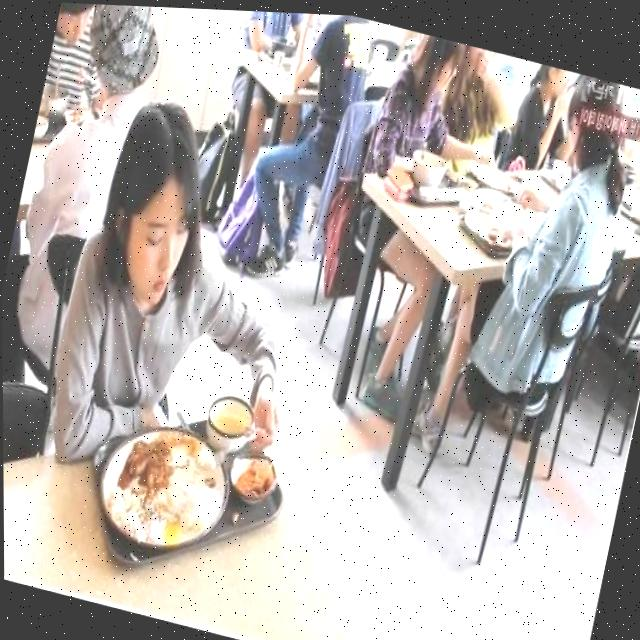eating-person: (5, 32, 369, 605)
